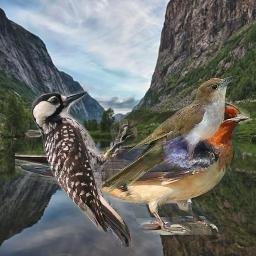Cuckoo: (90, 75, 239, 194)
Swallow: (15, 101, 250, 235)
Woodpecker: (31, 90, 137, 247)
